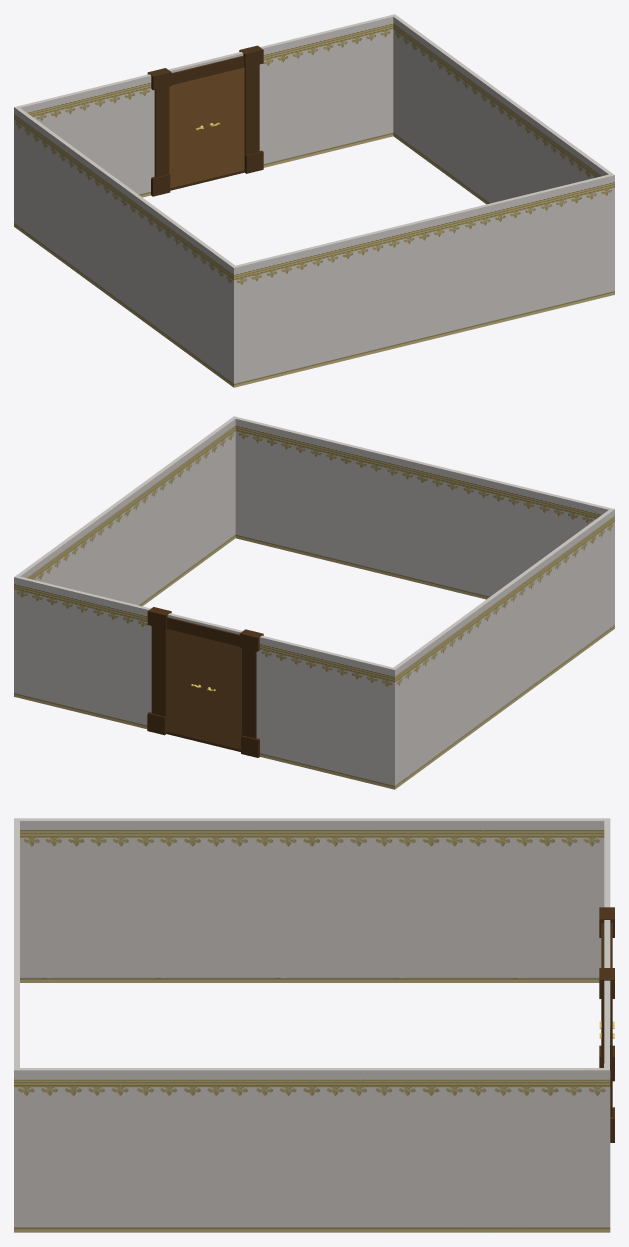
Rendered from Geo_Room5x5_1Door_01.fbx.
3 renders of one model, top to bottom at view 1: azimuth 30°, elevation 25°; view 2: azimuth 150°, elevation 25°; view 3: azimuth 270°, elevation 25°, orthographic. The views are drawn at different scales.
Visible parts, largest first — view 1: geo_wallTopx5_02 (×2), geo_wallTopx5_05, geo_wallTopx5_03, geo_wallCulledx5_02 (×2), geo_door_L, geo_door_R, geo_wallCulledx5_05, geo_wallCulledx5_03, geo_doorFrameSide_05, geo_doorFrameSide_01, geo_doorFrameTop_01; view 2: geo_wallTopx5_02 (×2), geo_wallTopx5_05, geo_wallTopx5_03, geo_wallCulledx5_02 (×2), geo_door_L, geo_door_R, geo_wallCulledx5_05, geo_wallCulledx5_03, geo_doorFrameSide_05, geo_doorFrameSide_01, geo_doorFrameTop_01; view 3: geo_wallTopx5_03, geo_wallTopx5_05, geo_wallCulledx5_03, geo_wallCulledx5_05, geo_wallTopx5_02 (×2), geo_doorFrameSide_05.
Boxes of the visible parts, box(x1,y1,x2,y2) form: geo_wallTopx5_02 (×2): box(14, 14, 614, 371); geo_wallTopx5_05: box(14, 107, 235, 371); geo_wallTopx5_03: box(393, 14, 614, 200); geo_wallCulledx5_02 (×2): box(126, 120, 614, 387); geo_door_L: box(206, 67, 244, 179); geo_door_R: box(169, 77, 206, 187); geo_wallCulledx5_05: box(14, 211, 233, 387); geo_wallCulledx5_03: box(393, 120, 502, 204); geo_doorFrameSide_05: box(244, 64, 259, 155); geo_doorFrameSide_01: box(154, 86, 169, 177); geo_doorFrameTop_01: box(171, 55, 244, 84); geo_wallTopx5_02 (×2): box(14, 416, 614, 773); geo_wallTopx5_05: box(393, 509, 614, 773); geo_wallTopx5_03: box(15, 416, 235, 602); geo_wallCulledx5_02 (×2): box(14, 522, 502, 789); geo_door_L: box(166, 629, 204, 740); geo_door_R: box(204, 638, 241, 749); geo_wallCulledx5_05: box(395, 613, 614, 789); geo_wallCulledx5_03: box(126, 522, 235, 606); geo_doorFrameSide_05: box(151, 626, 166, 716); geo_doorFrameSide_01: box(242, 648, 256, 738); geo_doorFrameTop_01: box(166, 617, 239, 646); geo_wallTopx5_03: box(14, 1068, 610, 1210); geo_wallTopx5_05: box(14, 818, 609, 961); geo_wallCulledx5_03: box(14, 1211, 610, 1232); geo_wallCulledx5_05: box(20, 961, 601, 982); geo_wallTopx5_02 (×2): box(14, 818, 610, 1070); geo_doorFrameSide_05: box(601, 999, 612, 1116).
Size of the model in its own units: 500 by 151 by 504.
Materials: 5 (1 with a texture image).
